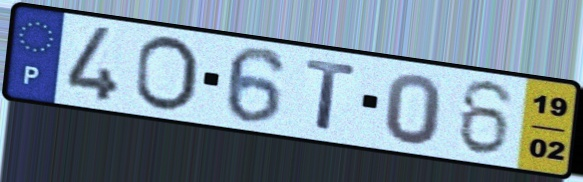0: (379, 69, 446, 148)
4: (62, 23, 123, 104)
6: (224, 45, 288, 127), (456, 78, 516, 158)
O: (130, 33, 201, 115)
T: (302, 56, 361, 134)
